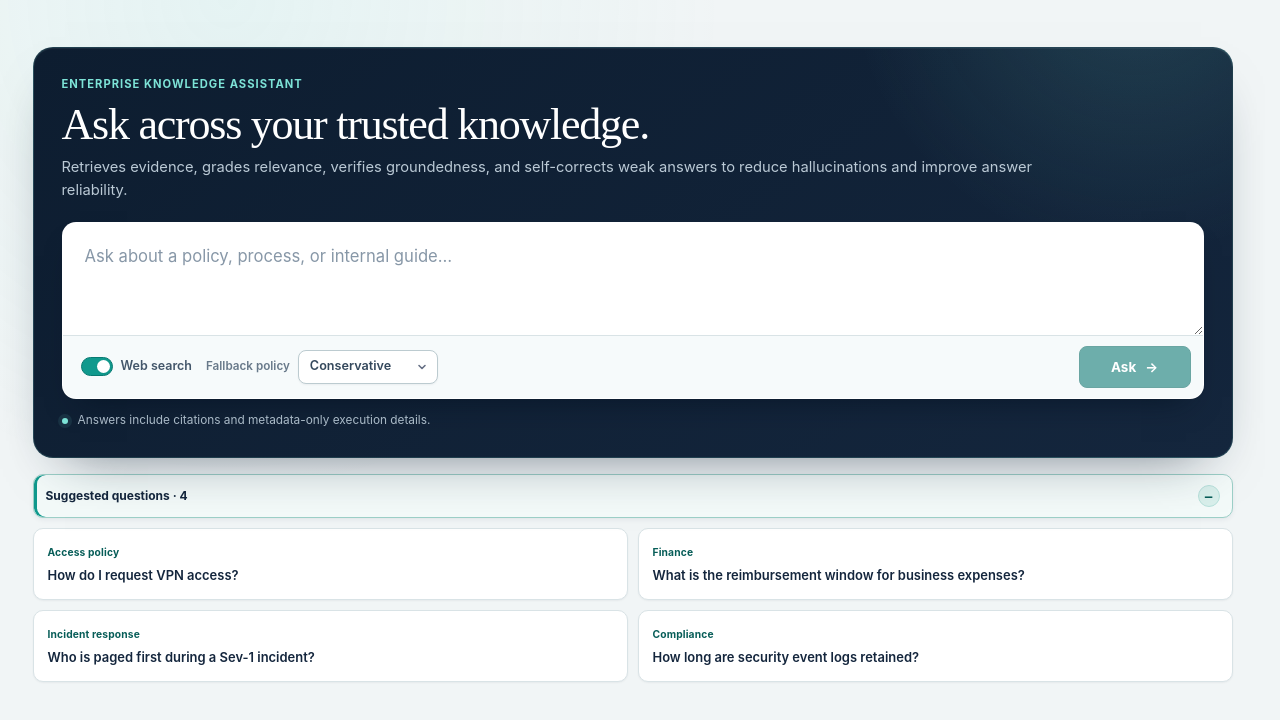
AskPage › fills the composer from a suggested question and keeps the cards expanded
Click the button "How do I request VPN access?": (83, 552) x1=32 y1=528 x2=628 y2=600
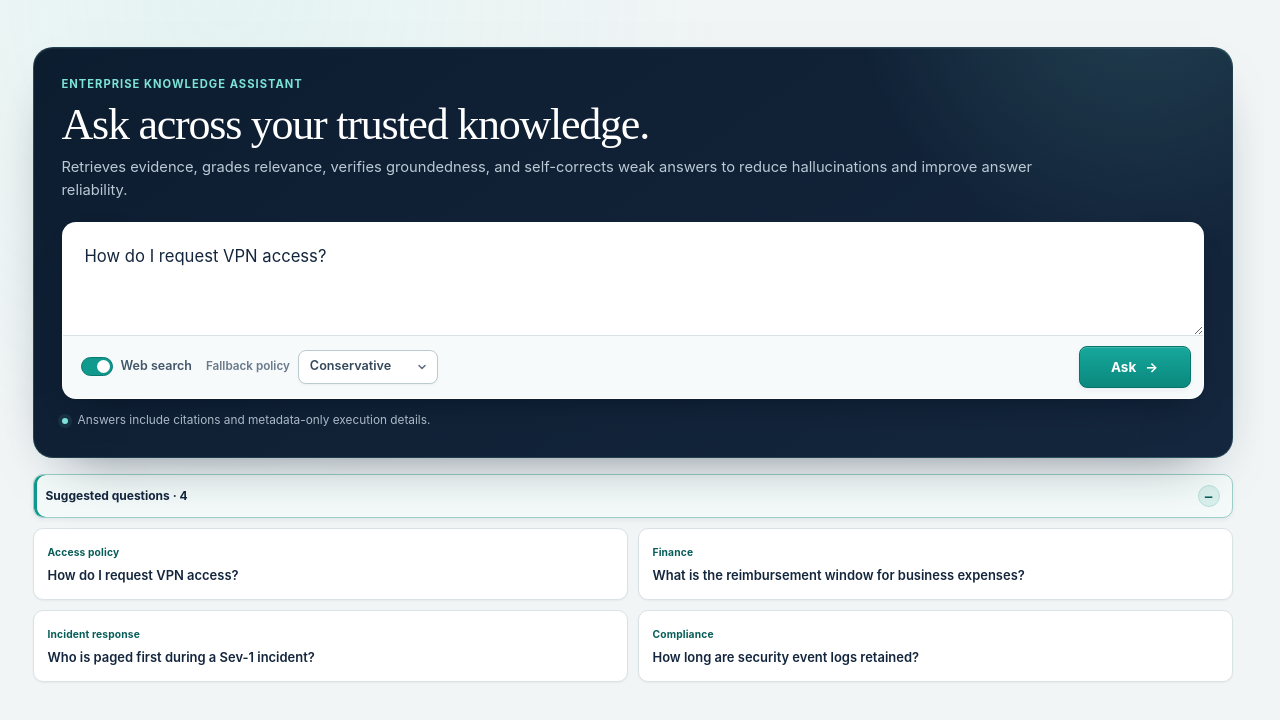
Check: the text box named "Question" holds "How do I request VPN access?", box x1=62 y1=223 x2=1202 y2=334
